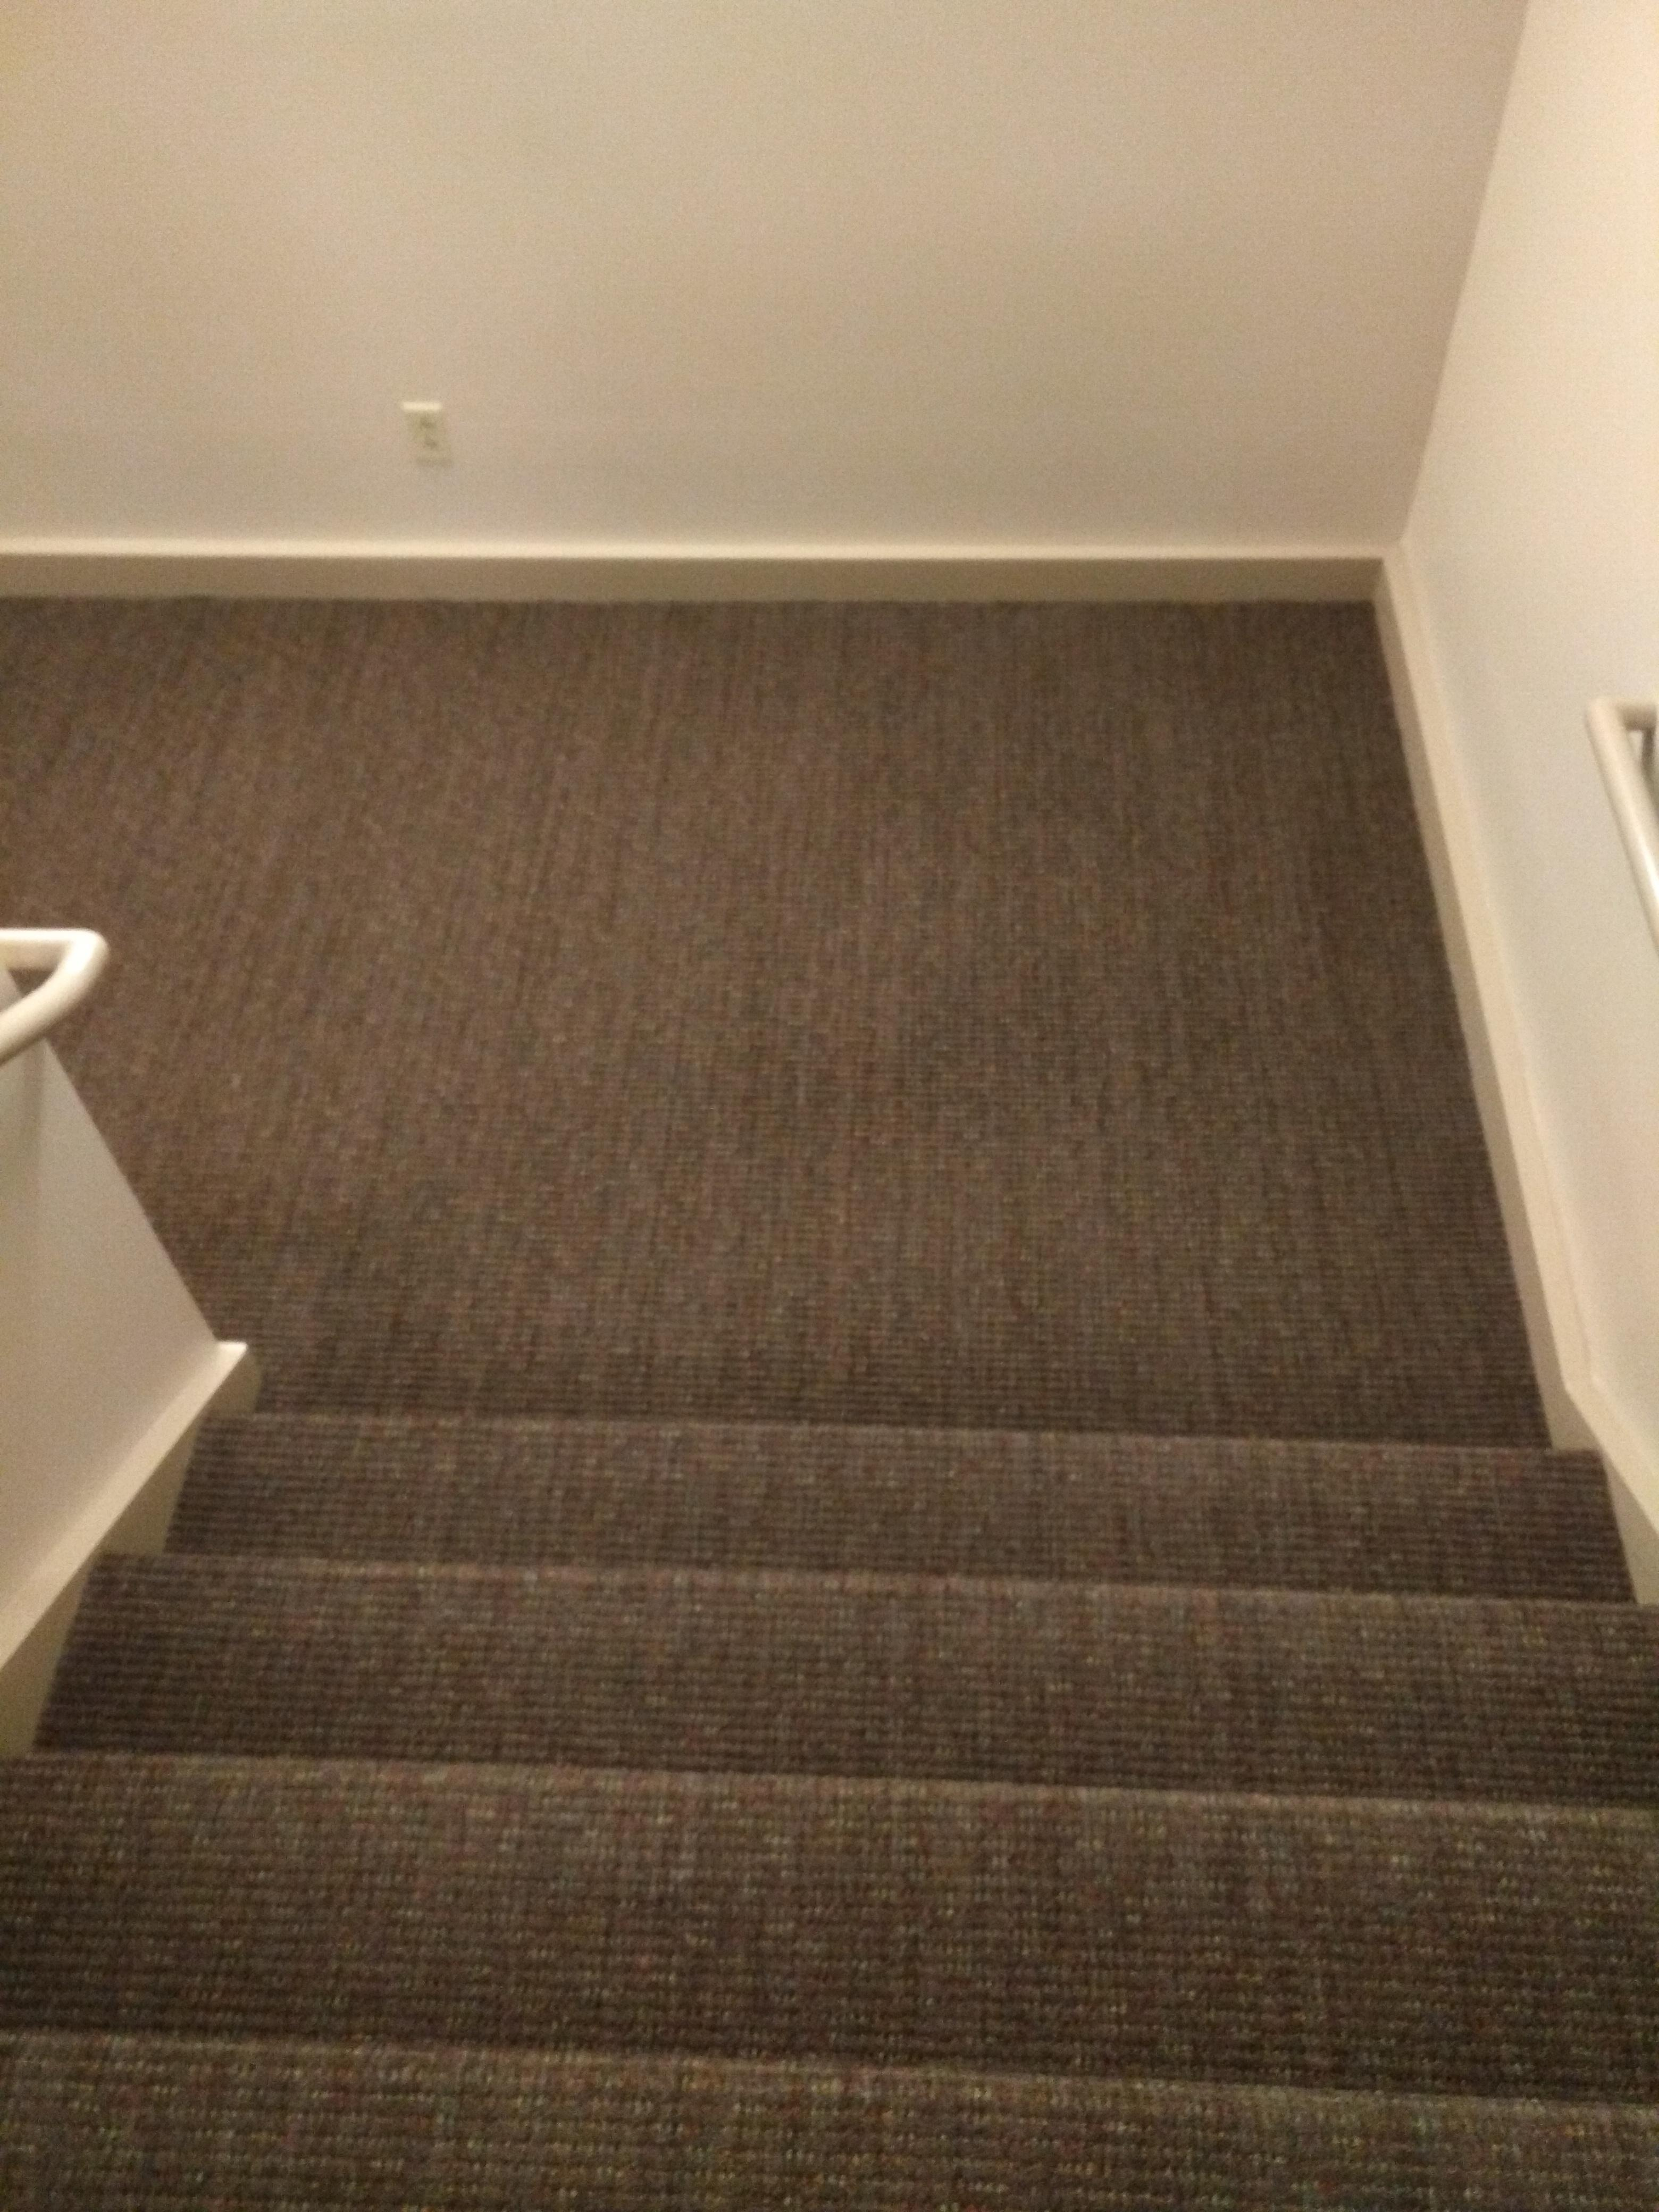stairs_down: (19, 1364, 1659, 2212)
